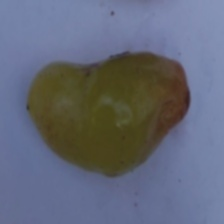grapes: (47, 47, 202, 188)
